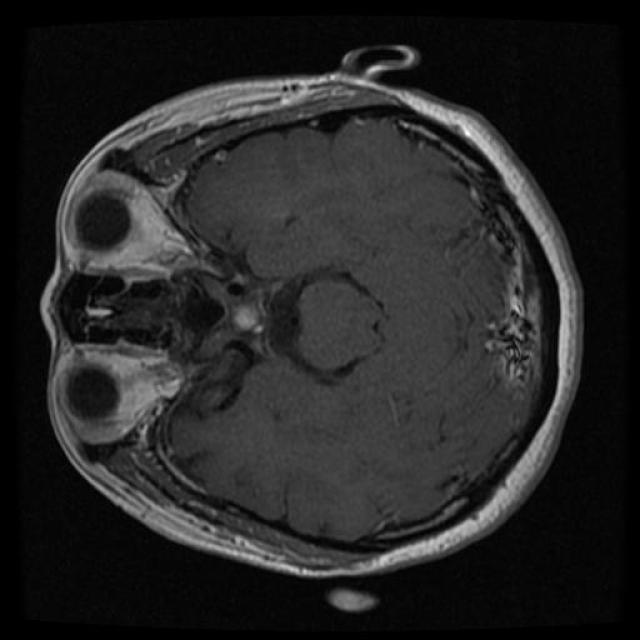Pituitary: (226, 275, 286, 355)
